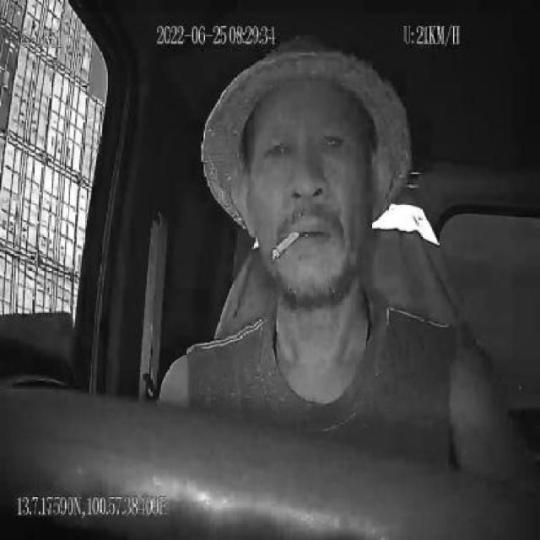smoking: (272, 228, 298, 262)
